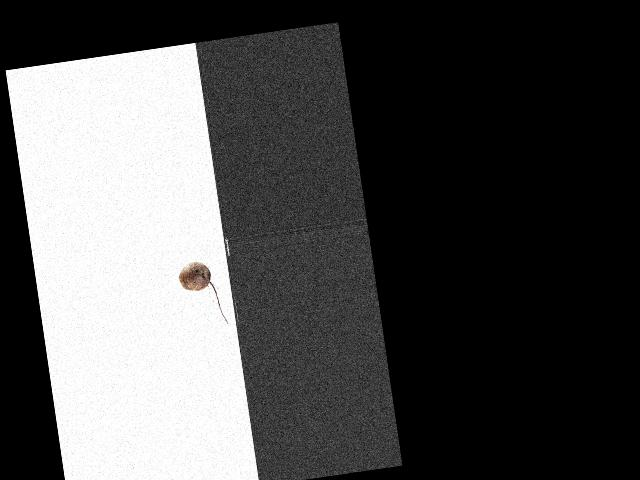beet: (177, 259, 228, 330)
